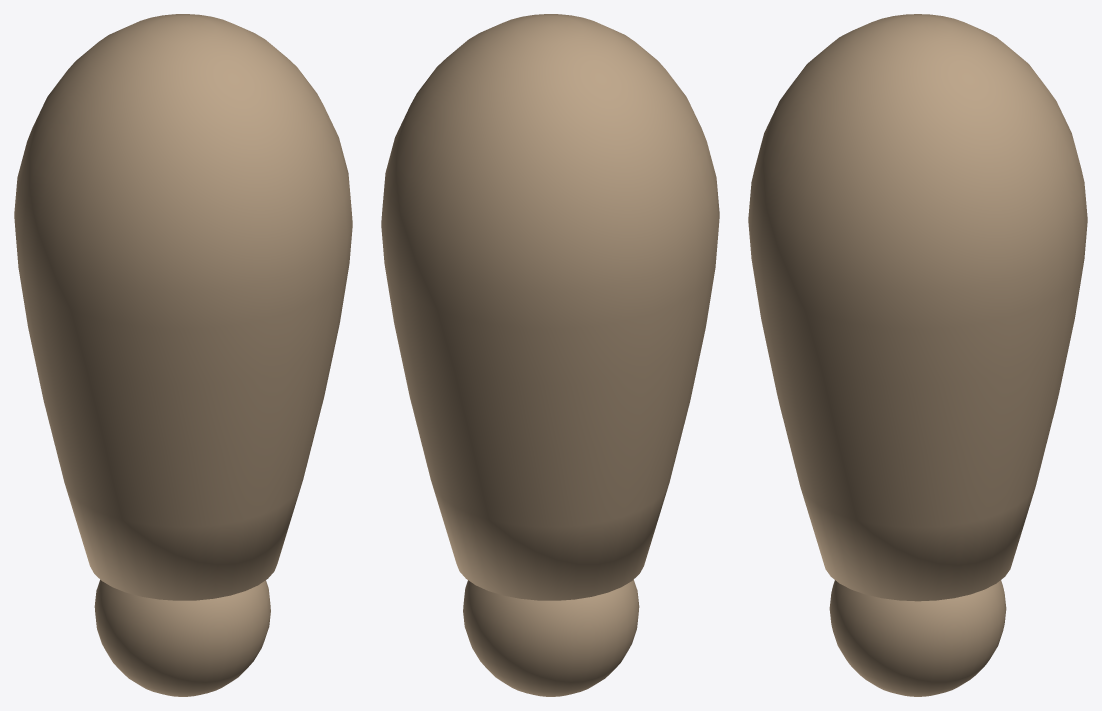
File: man-head.obj
3 views of the same model, side by side, from view 1: azimuth 30°, elevation 25°; view 2: azimuth 150°, elevation 25°; view 3: azimuth 270°, elevation 25° (orthographic).
Visible parts, largest first — view 1: back_joint.001_Sphere.007; view 2: back_joint.001_Sphere.007; view 3: back_joint.001_Sphere.007.
Part boxes in pixels (x1,y1,x2,y2): back_joint.001_Sphere.007: (14, 14, 352, 696); back_joint.001_Sphere.007: (381, 14, 719, 696); back_joint.001_Sphere.007: (748, 14, 1087, 696).
Size of the model in its own units: 0.1678 by 0.3612 by 0.1678.
